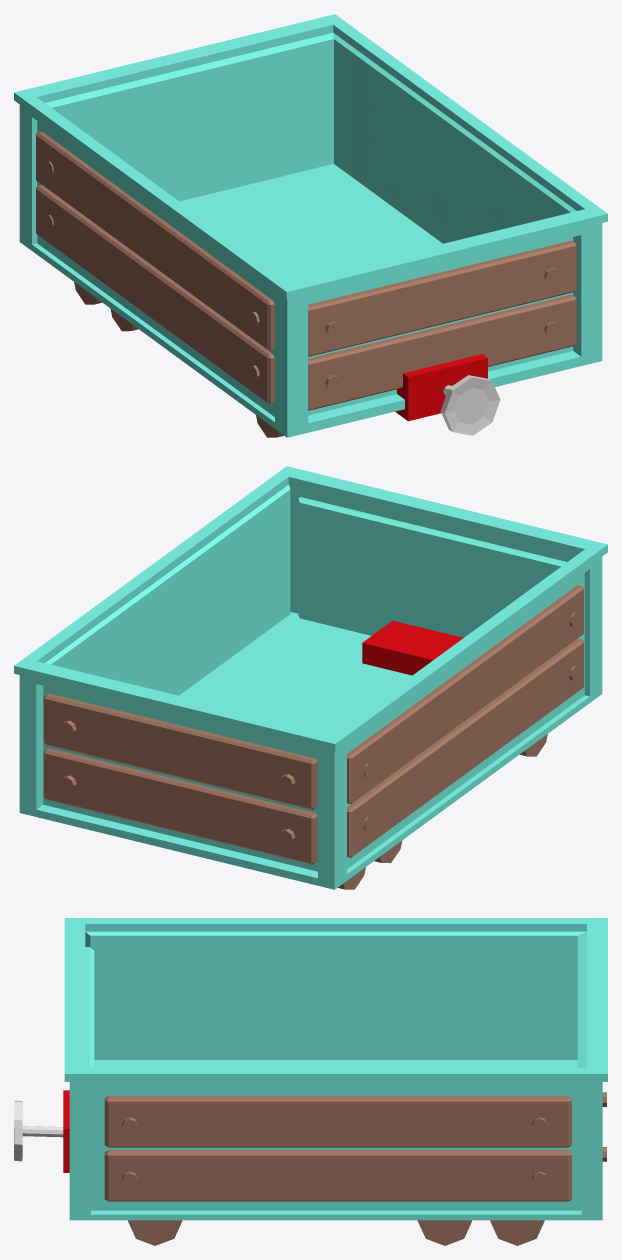
The model's file is Train-Cargo.fbx.
3 renders of one model, top to bottom at view 1: azimuth 30°, elevation 25°; view 2: azimuth 150°, elevation 25°; view 3: azimuth 270°, elevation 25°, orthographic.
Visible parts, largest first — view 1: Cylinder.022; view 2: Cylinder.022; view 3: Cylinder.022.
Part boxes in pixels (x1=…): Cylinder.022: x1=14, y1=14, x2=607, y2=437; Cylinder.022: x1=14, y1=466, x2=607, y2=889; Cylinder.022: x1=14, y1=918, x2=607, y2=1245.
Bounding box in the file's own units: 206 × 112 × 328.
